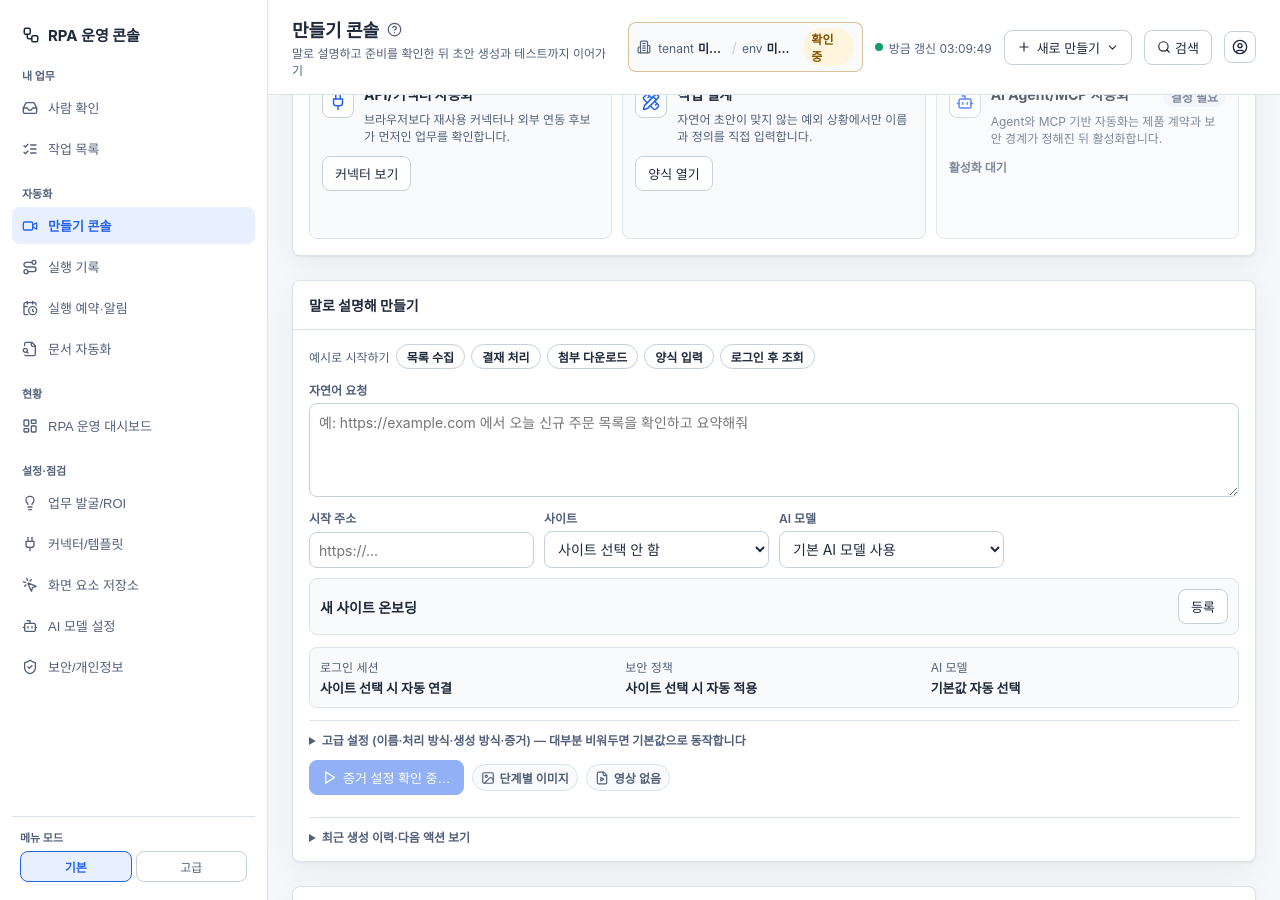
Test: create one-pass shell (F3) › PREVIEW: 폼은 접힌 요약(요청 고치기)으로, 홈 섹션은 숨고 결과가 주인공
(page scrolled)
Type "주문 목록을 확인해줘" into the text box labelled "자연어 요청".
click(774, 450); type("주문 목록을 확인해줘")  # box left=309, top=403, right=1239, bottom=497
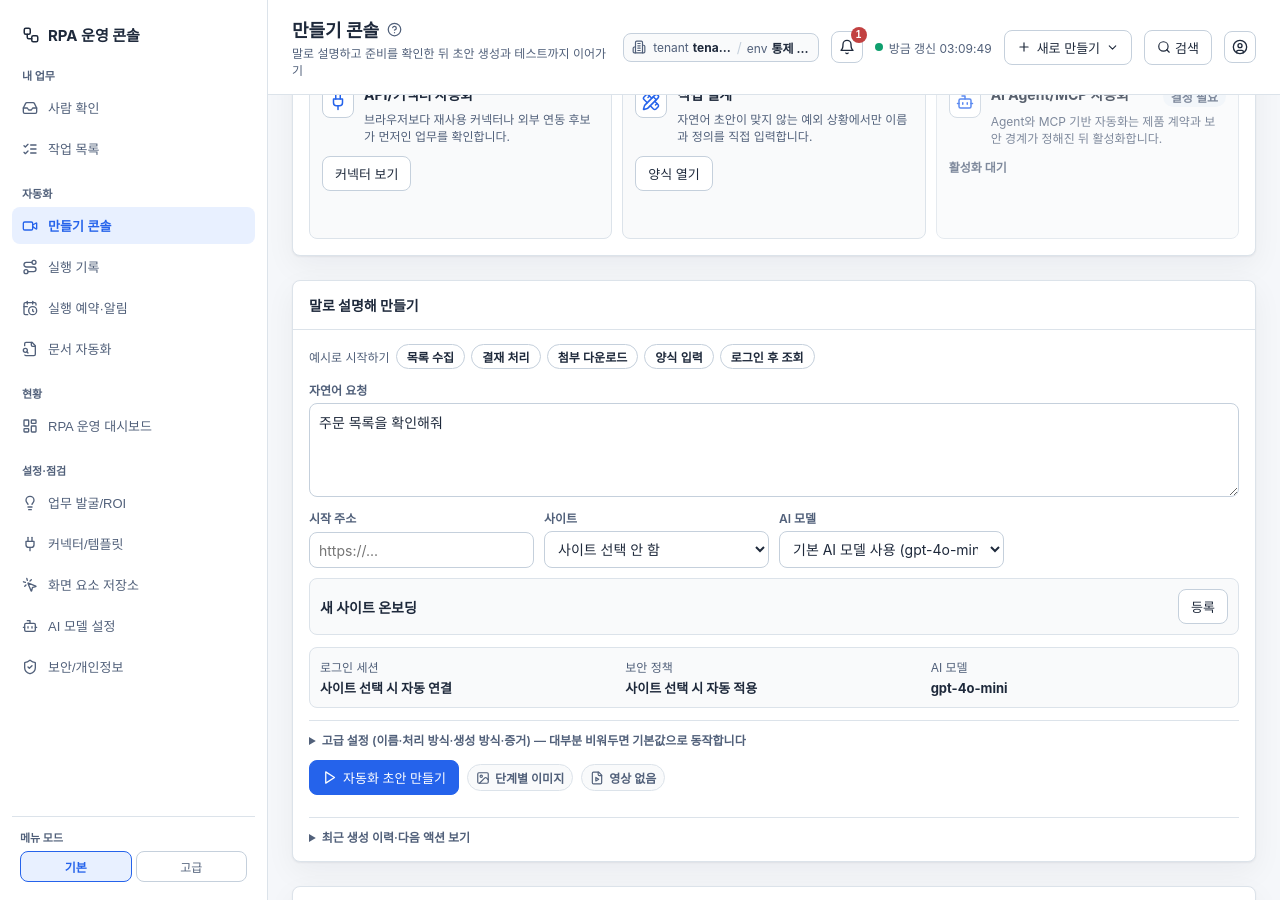
Expected: the button "자동화 초안 만들기" is enabled
Click the button "자동화 초안 만들기".
click(384, 778)  # box left=309, top=760, right=459, bottom=795
(page scrolled)
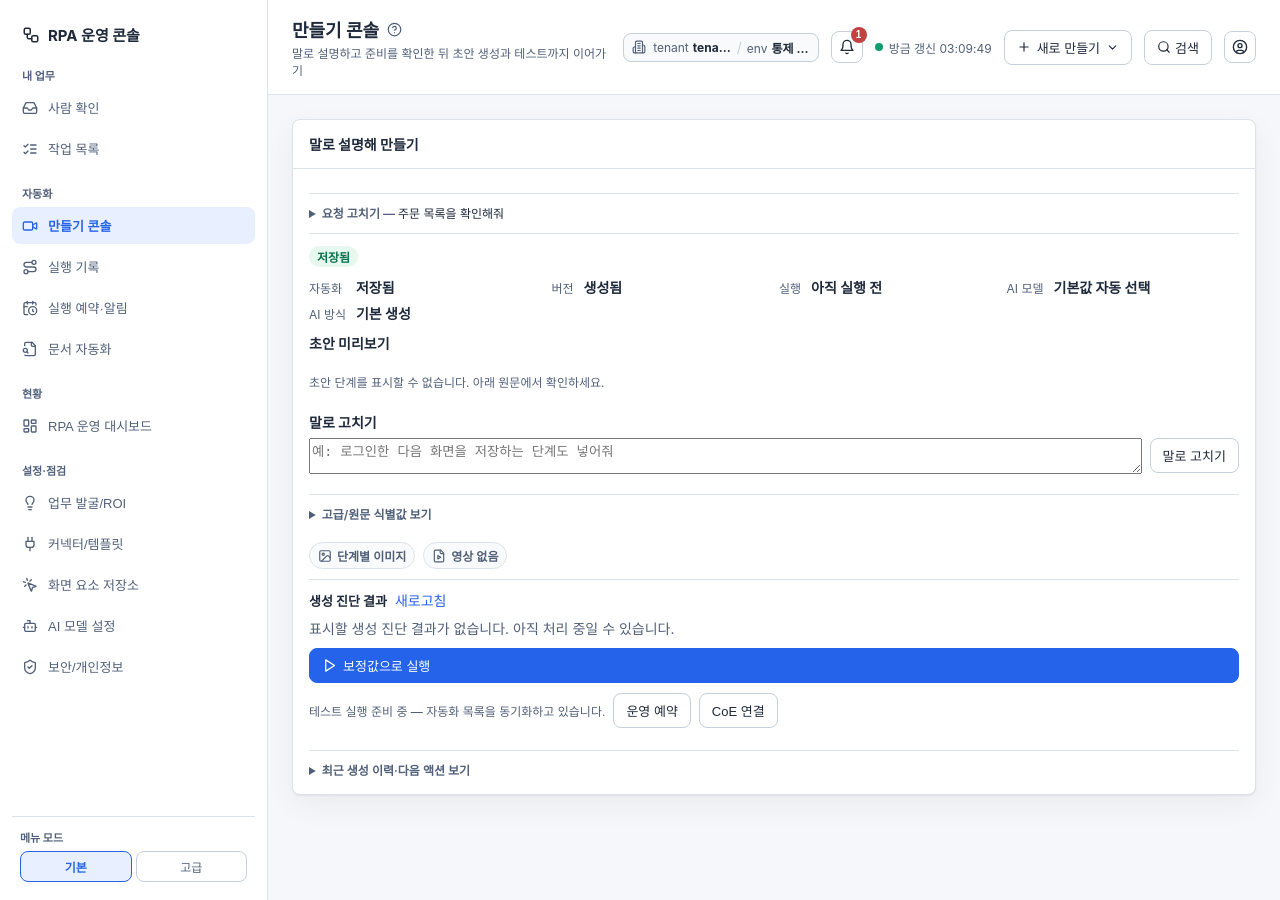
Expected: the text "초안 미리보기" is shown, left=309, top=335, right=390, bottom=352
Expected: the element showing "요청 고치기 — 주문 목록을 확인해줘" is shown, left=309, top=193, right=1239, bottom=221
Expected: the text "테스트 실행 준비 중 — 자동화 목록을 동기화하고 있습니다." is shown, left=309, top=702, right=605, bottom=719
